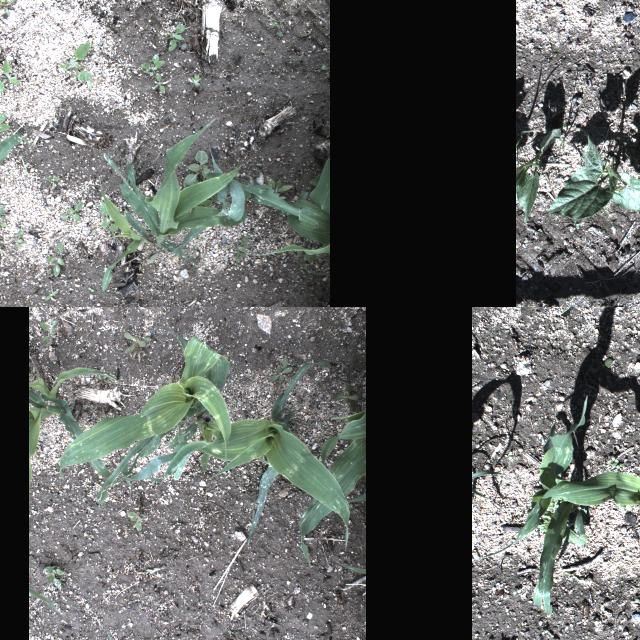crop: (120, 360, 350, 552), (57, 331, 231, 507), (480, 470, 640, 640), (102, 117, 248, 290), (505, 393, 587, 615), (28, 366, 118, 496), (225, 150, 329, 254), (297, 408, 365, 564), (545, 132, 640, 218), (516, 124, 564, 223), (168, 404, 215, 474), (0, 130, 24, 171), (471, 470, 505, 498), (28, 586, 60, 612), (342, 564, 366, 574)
weed: (537, 476, 569, 532), (57, 38, 91, 88), (137, 54, 165, 96), (184, 147, 212, 186), (333, 380, 363, 410), (44, 238, 64, 278), (0, 57, 20, 94), (230, 233, 253, 263), (270, 356, 296, 382), (122, 331, 150, 355), (40, 564, 66, 588), (99, 196, 117, 230), (166, 23, 184, 51), (589, 355, 613, 375), (38, 320, 56, 346), (125, 509, 146, 531), (265, 176, 293, 192), (58, 201, 82, 219), (614, 495, 632, 515), (537, 602, 561, 616), (515, 129, 531, 149), (46, 282, 60, 304), (0, 200, 4, 254), (0, 109, 8, 134), (562, 570, 578, 580), (606, 455, 618, 467), (623, 36, 633, 48), (620, 23, 630, 34), (589, 523, 597, 535), (256, 467, 264, 477), (511, 588, 521, 596), (106, 628, 112, 640), (539, 628, 549, 634), (506, 450, 512, 460), (614, 462, 624, 468), (633, 596, 640, 603), (227, 628, 235, 634), (298, 562, 304, 568), (240, 482, 246, 488), (176, 520, 182, 526), (533, 309, 539, 313), (330, 330, 334, 334), (514, 455, 518, 459)
